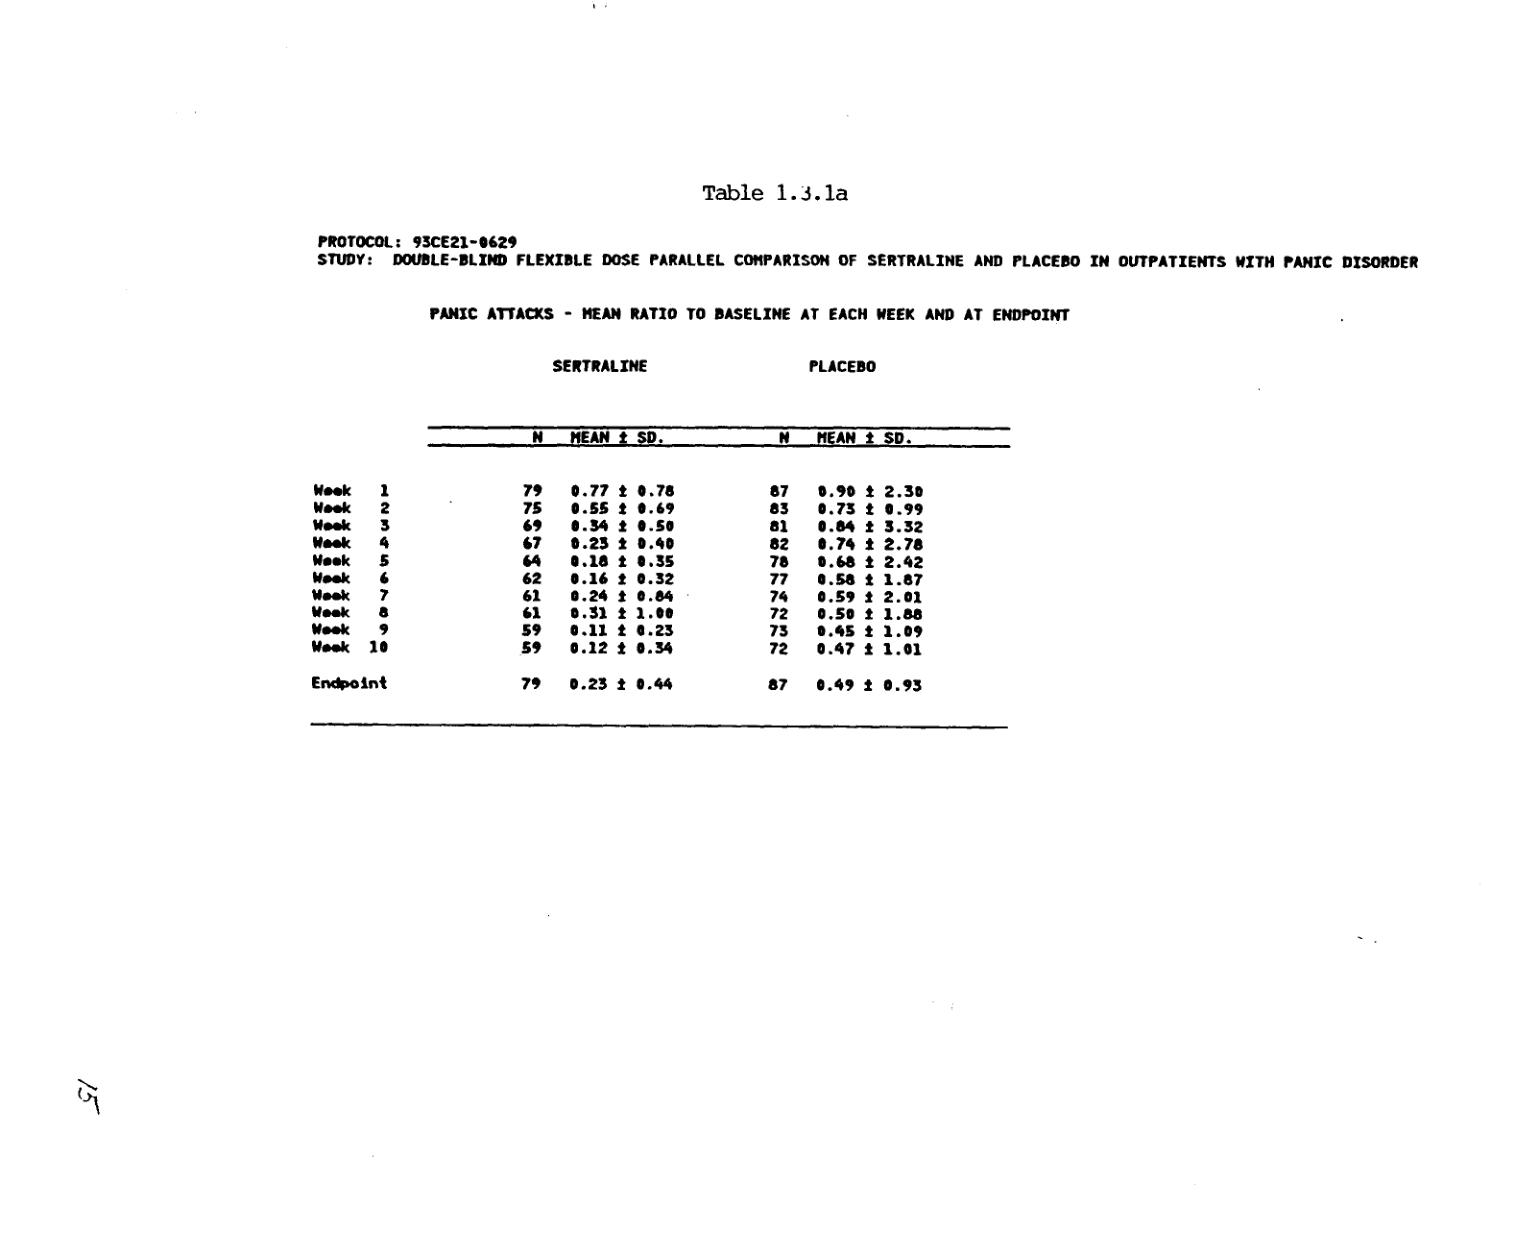partial_lined_merged_cells: (306, 352, 1010, 732)
